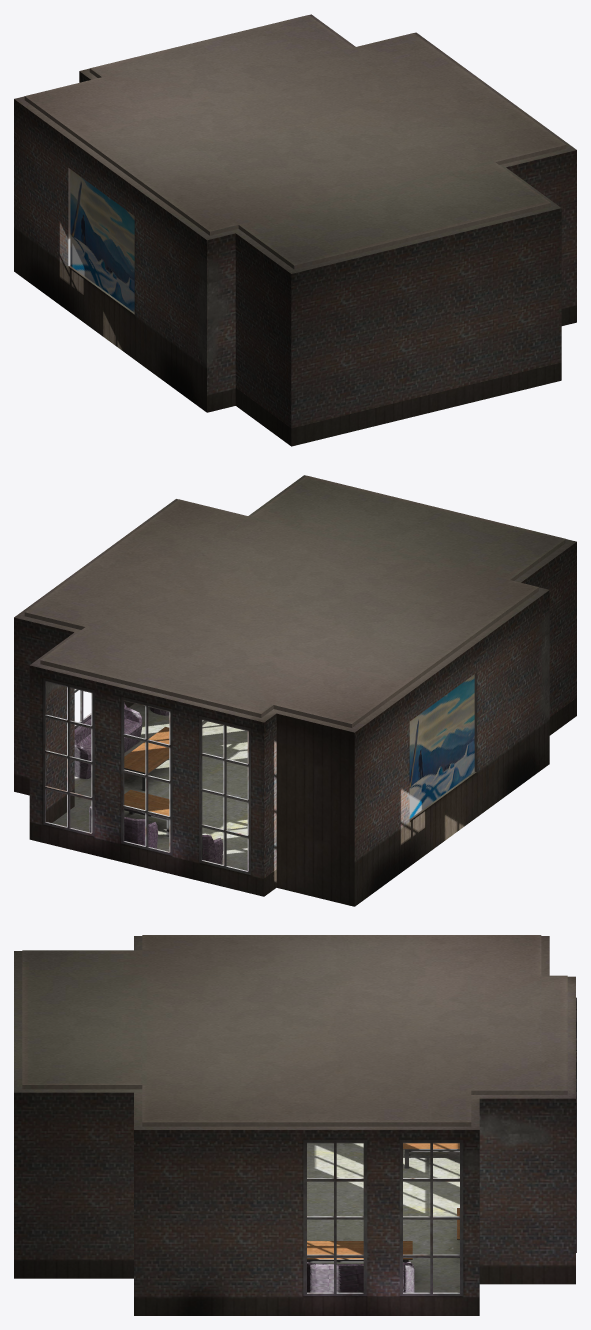
The model's file is brick_empty.glb.
The picture shows the model from 3 angles, top to bottom: view 1: azimuth 30°, elevation 25°; view 2: azimuth 150°, elevation 25°; view 3: azimuth 270°, elevation 25°; orthographic projection. The views are drawn at different scales.
Parts seen in each view (by area): view 1: group_5_ID41, group_9_ID69, group_8_ID62; view 2: group_9_ID69, group_5_ID41, group_7_ID55, group_3_ID27, group_8_ID62, group_11.003_ID119, group_12.010_ID198; view 3: group_9_ID69, group_5_ID41, group_7_ID55, group_8_ID62, group_3_ID27, group_11.003_ID119, group_12.010_ID198.
Boxes of the visible parts, x1,y1,x2,y2 form: group_5_ID41: (14,71,576,446); group_9_ID69: (25,15,565,265); group_8_ID62: (14,14,576,273); group_9_ID69: (25,475,565,723); group_5_ID41: (14,542,576,906); group_7_ID55: (52,703,247,870); group_3_ID27: (42,677,250,874); group_8_ID62: (14,475,576,732); group_11.003_ID119: (74,702,222,864); group_12.010_ID198: (124,727,169,836); group_9_ID69: (22,935,567,1122); group_5_ID41: (14,1092,575,1315); group_7_ID55: (307,1143,459,1292); group_8_ID62: (14,936,575,1129); group_3_ID27: (303,997,576,1296); group_11.003_ID119: (307,1262,414,1292); group_12.010_ID198: (307,1143,459,1262).
Size of the model in its own units: 8.68 by 3.95 by 10.61.
1 material, 1 textured.
